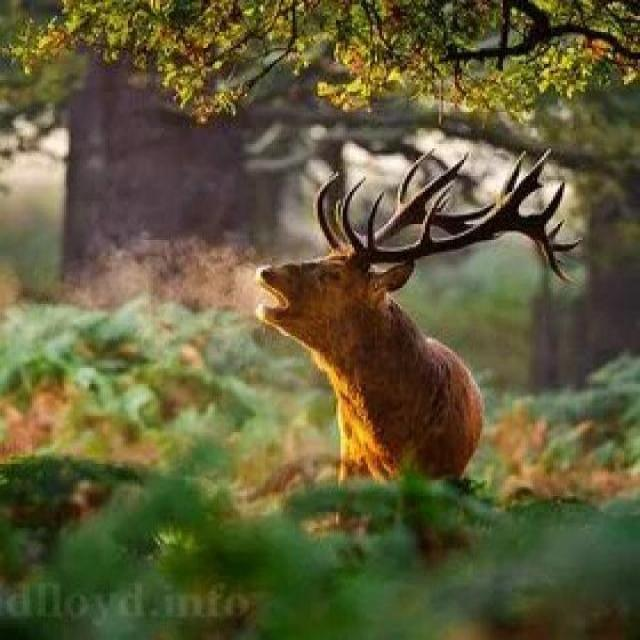deer: (193, 153, 580, 547)
